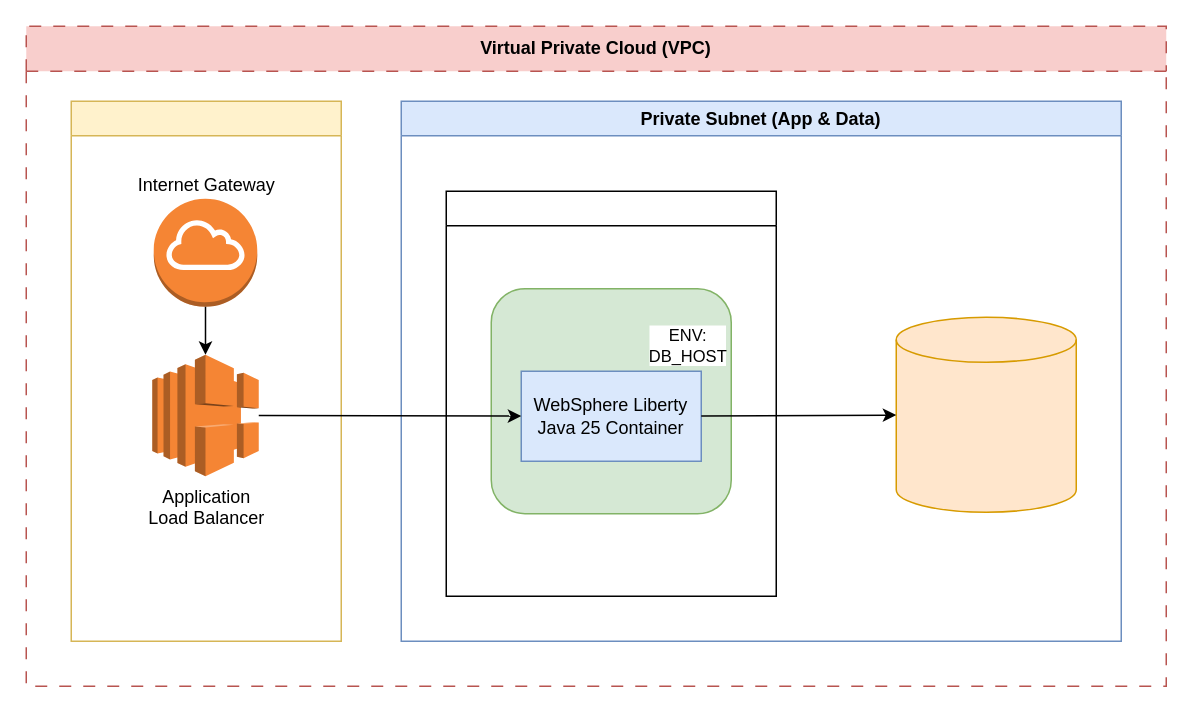
Some shapes in this 1193 by 713 pixel diagram are drawn without their labels. Each missing label, with the box of its shape:
External Oracle DB (OCI / Managed): (895, 316, 1076, 512)
Kubernetes / OpenShift Cluster: (445, 190, 776, 596)
Public Subnet (DMZ): (70, 100, 341, 641)
